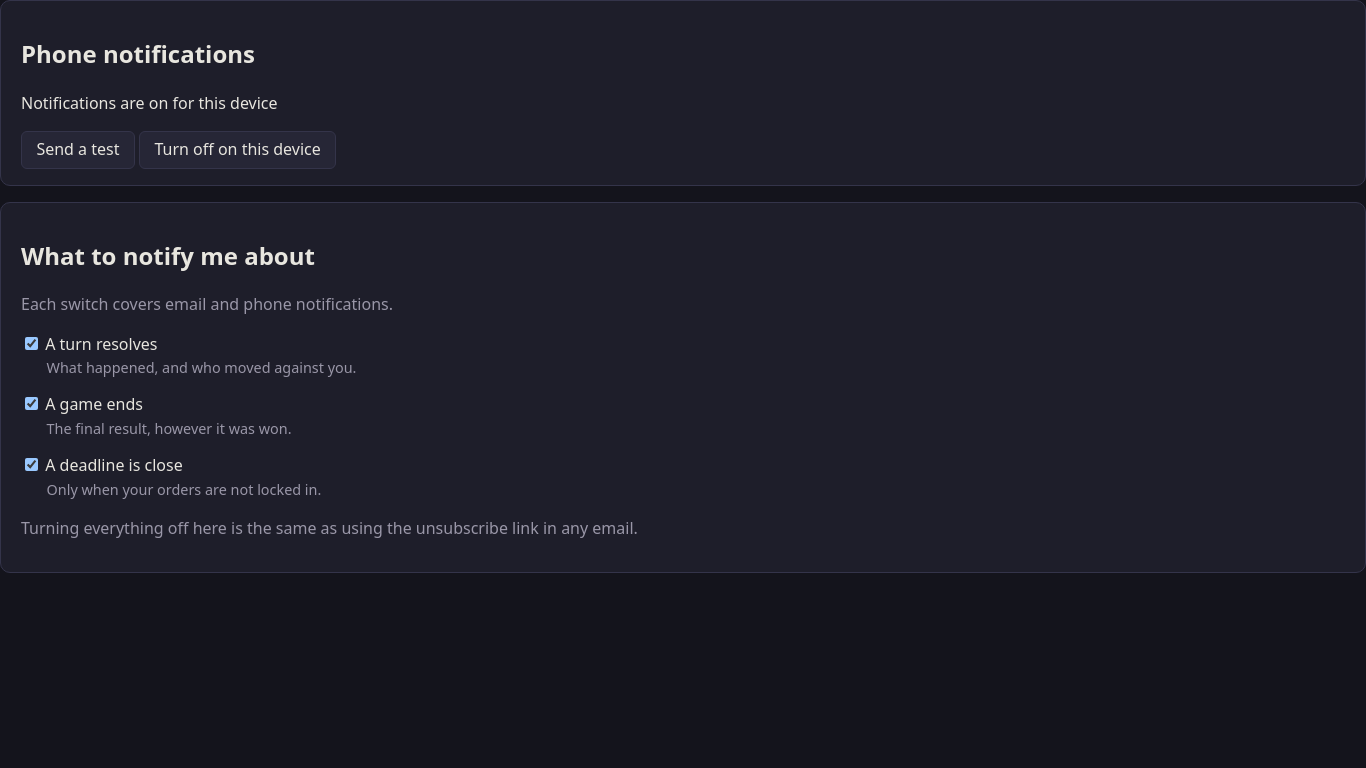
Test case: Settings › phone notifications › sends a test and says so
Click the button "Send a test" at (78, 150), box [21,131,135,169]
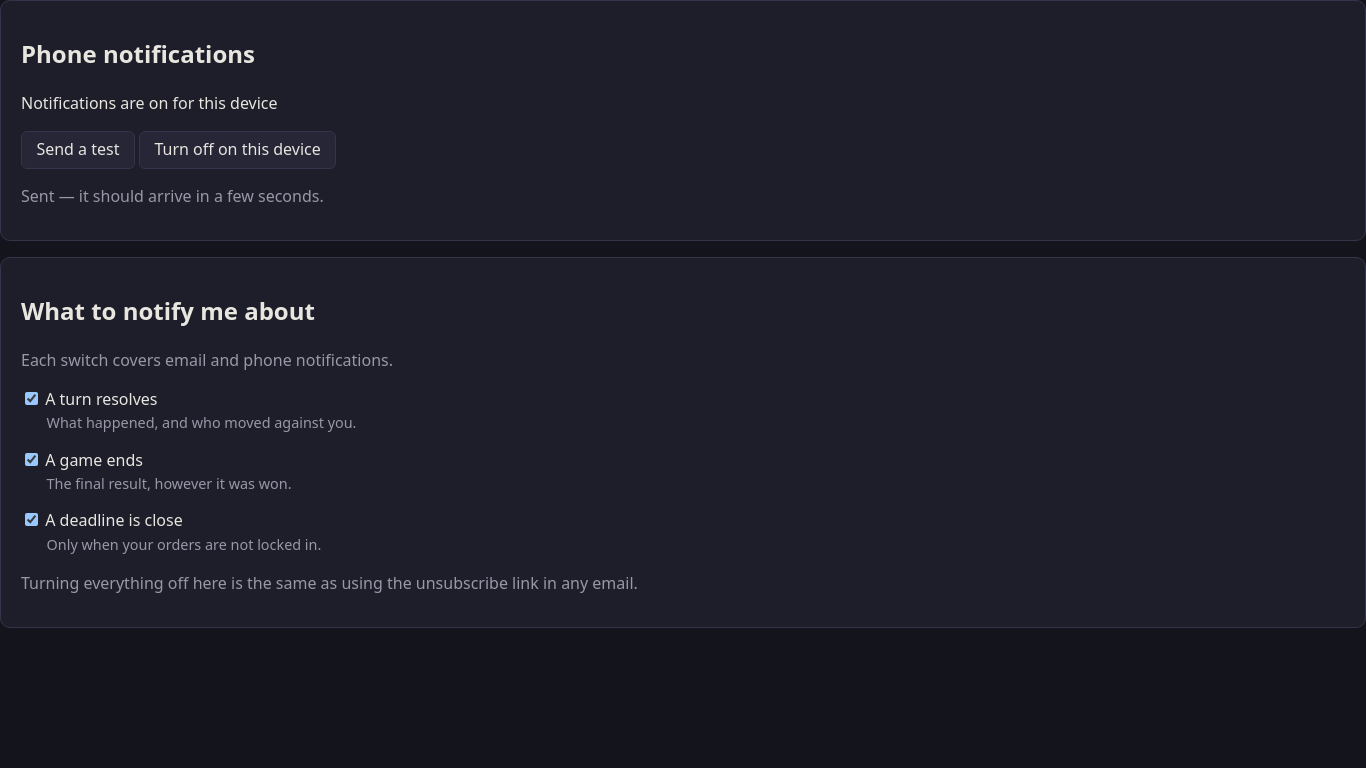
Now the text "Sent — it should arrive in a few seconds." is shown, box [21,185,324,207]
